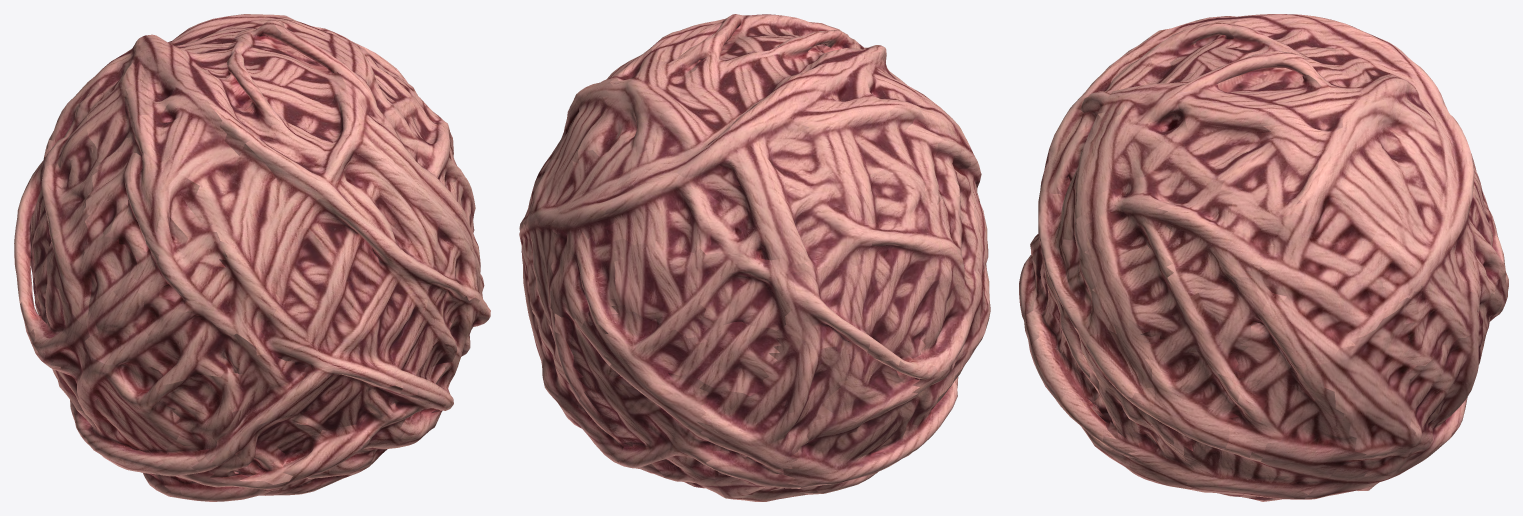
The model's file is meshy-yarn-ball.glb.
3 renders of one model, left to right at view 1: azimuth 30°, elevation 25°; view 2: azimuth 150°, elevation 25°; view 3: azimuth 270°, elevation 25°, orthographic. The views are drawn at different scales.
Size of the model in its own units: 1.88 by 1.89 by 1.9.
1 material, 1 textured.
